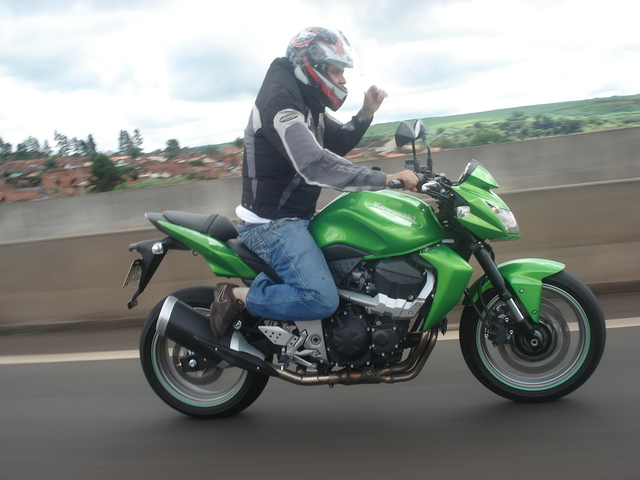helmet: (289, 24, 363, 107)
